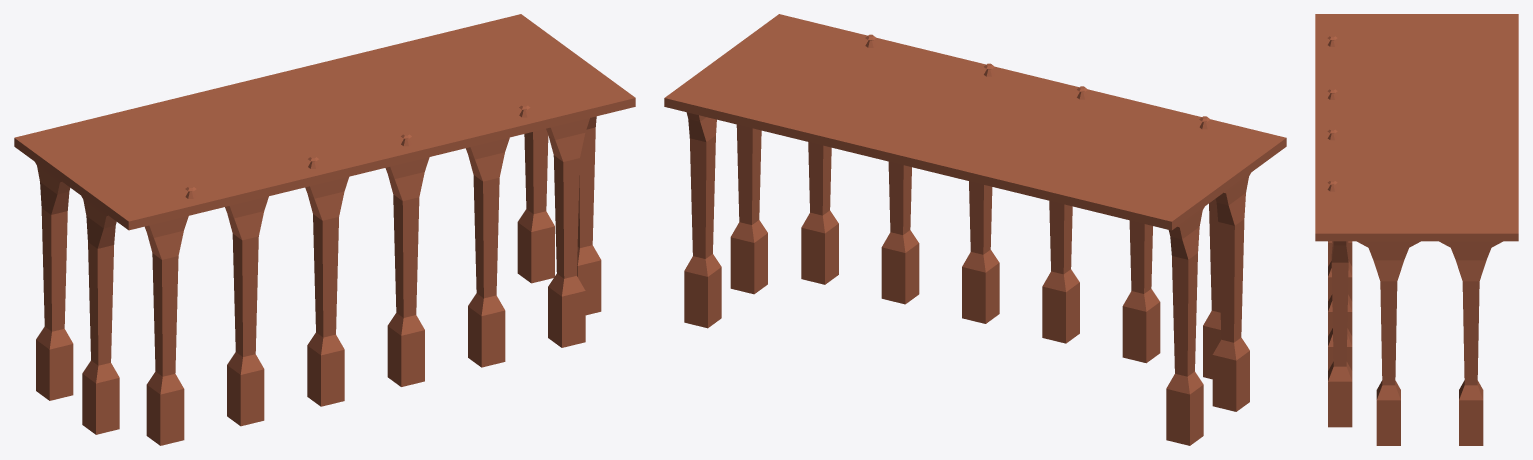
The model's file is Dock.fbx.
The picture shows the model from 3 angles, left to right: view 1: azimuth 30°, elevation 25°; view 2: azimuth 150°, elevation 25°; view 3: azimuth 270°, elevation 25°; orthographic projection. The views are drawn at different scales.
Visible parts, largest first — view 1: Pier, Pillars; view 2: Pier, Pillars; view 3: Pier, Pillars, Meerpalen.
Boxes of the visible parts, left/top/right/bottom form: Pier: left=14, top=14, right=635, bottom=230; Pillars: left=35, top=116, right=601, bottom=445; Pier: left=664, top=14, right=1286, bottom=230; Pillars: left=684, top=112, right=1250, bottom=445; Pier: left=1315, top=14, right=1518, bottom=241; Pillars: left=1328, top=241, right=1502, bottom=445; Meerpalen: left=1327, top=35, right=1337, bottom=191.
Size of the model in its own units: 12006 by 5633 by 4700.
